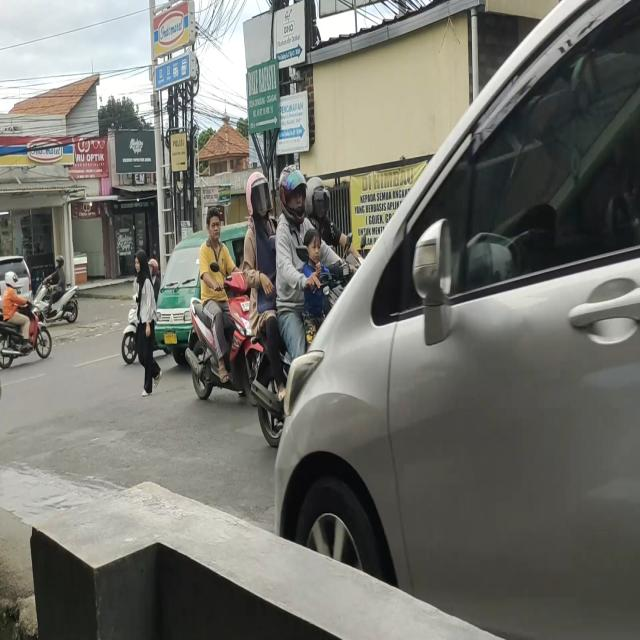helmet: (280, 168, 306, 218), (247, 173, 271, 215), (306, 177, 328, 215)
no-helmet: (305, 230, 321, 261), (208, 207, 221, 239)
